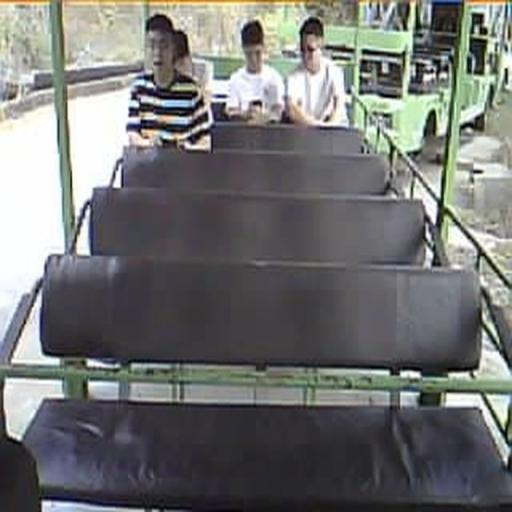persona: (125, 12, 215, 154), (284, 16, 350, 127), (224, 19, 286, 123), (172, 29, 214, 122)
